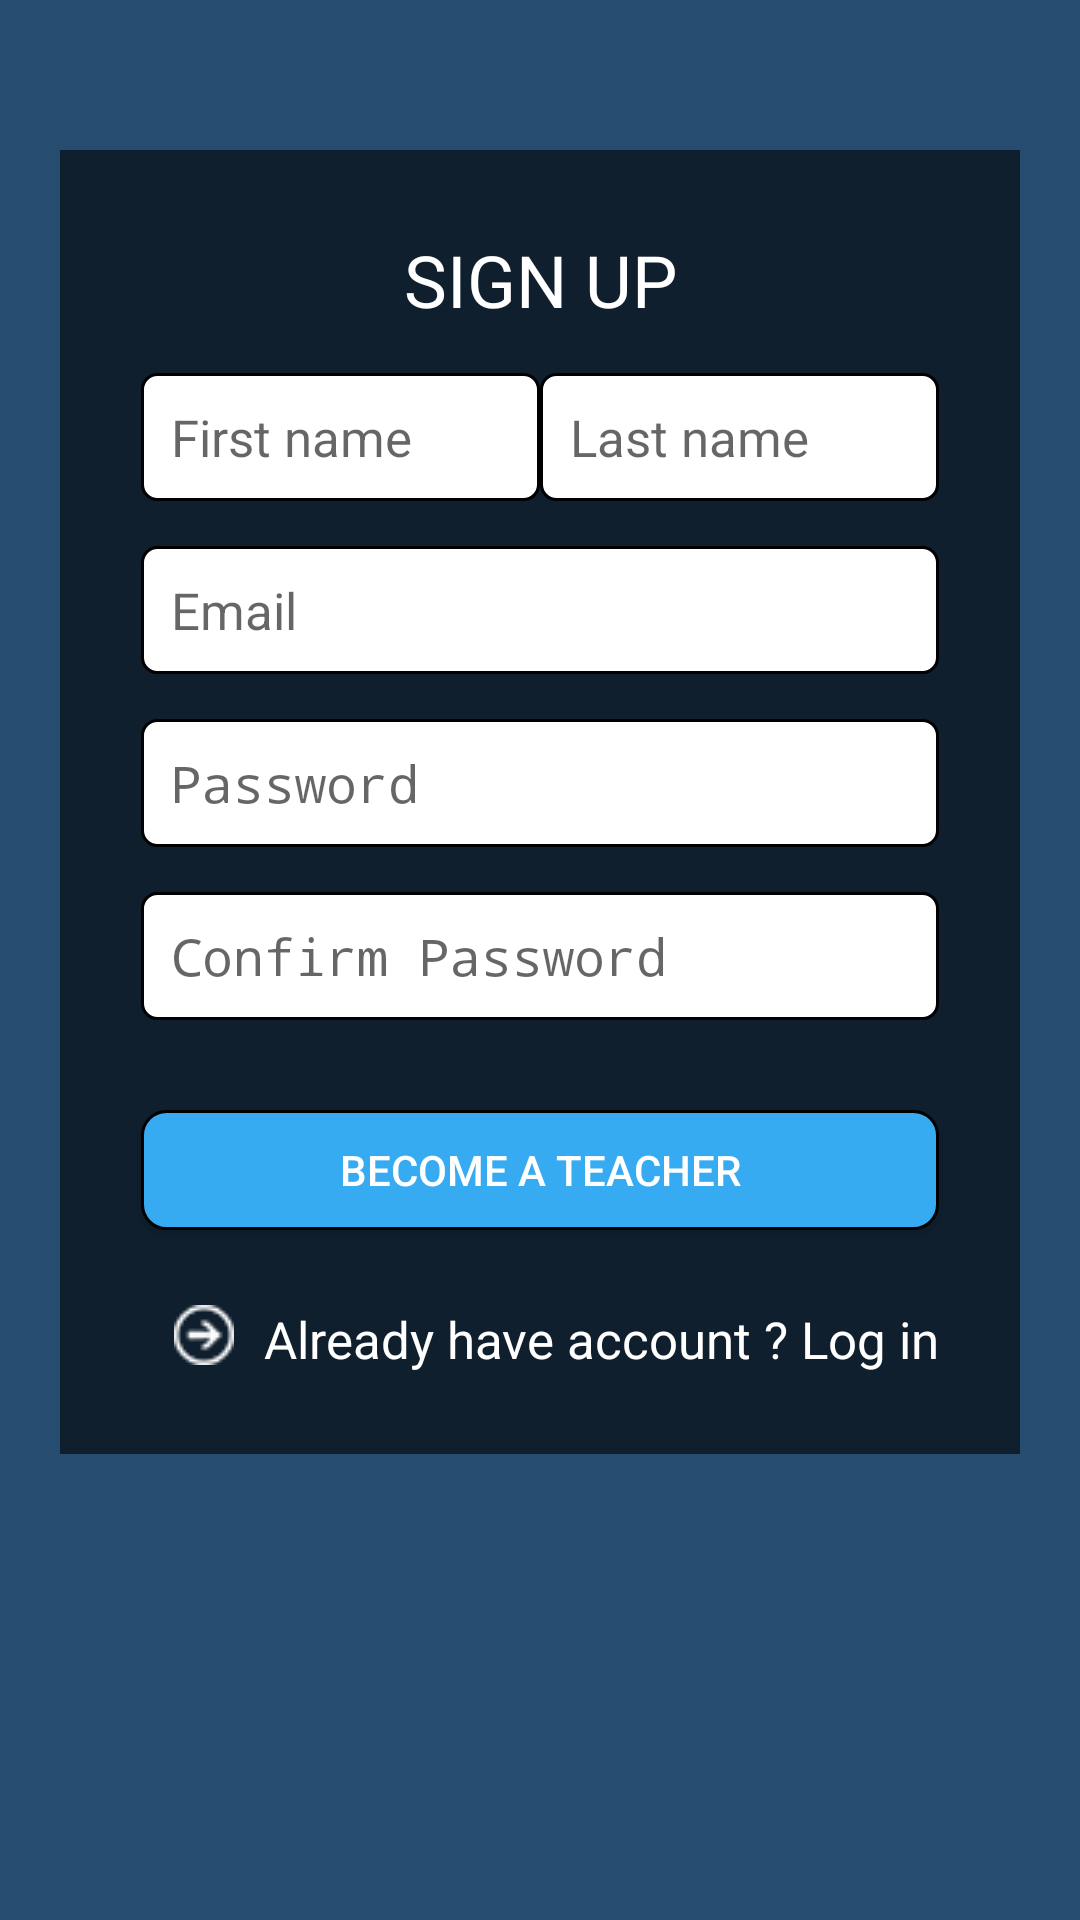

Named icons in this screenshot (1080×1920) and their centers, (x=x, y=y):
rigth: (x=204, y=1335)
